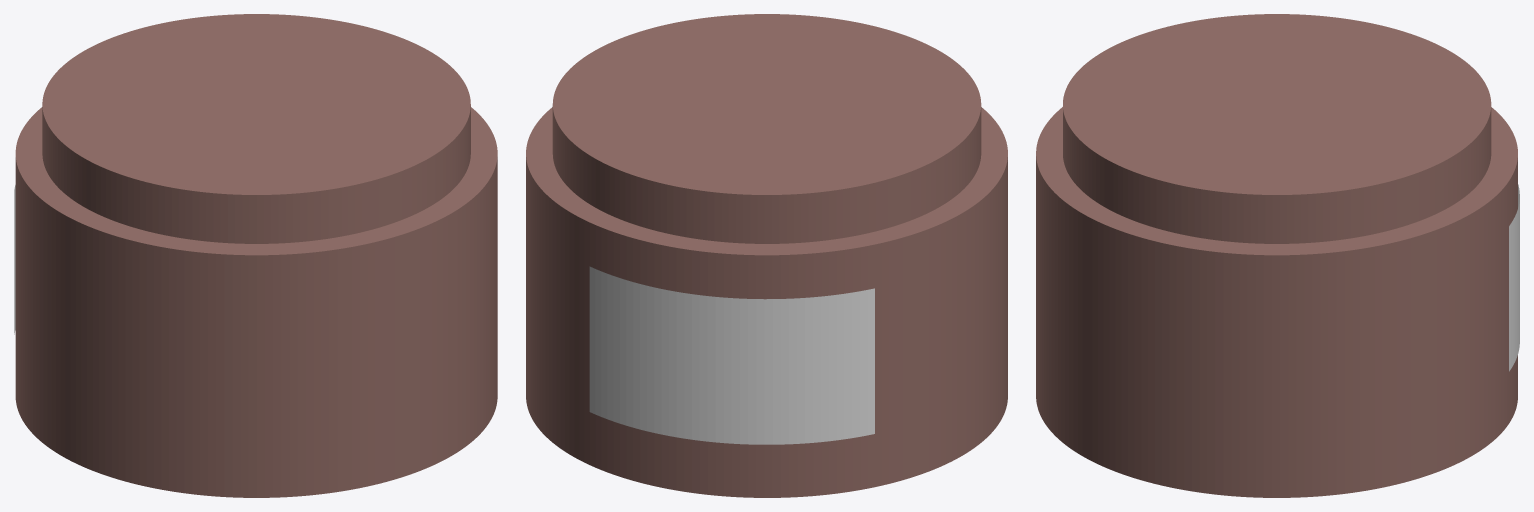
The model's file is cream1.fbx.
3 renders of one model, left to right at view 1: azimuth 30°, elevation 25°; view 2: azimuth 150°, elevation 25°; view 3: azimuth 270°, elevation 25°, orthographic.
Visible parts, largest first — view 1: Cylinder.001; view 2: Cylinder.001, Cylinder; view 3: Cylinder.001, Cylinder.
Part boxes in pixels (x1,y1,x2,y2): Cylinder.001: (15,14,497,497); Cylinder.001: (526,14,1007,497); Cylinder: (589,266,874,444); Cylinder.001: (1036,14,1517,497); Cylinder: (1509,184,1519,371).
Bounding box in the file's own units: 18 × 12.25 × 18.07.
